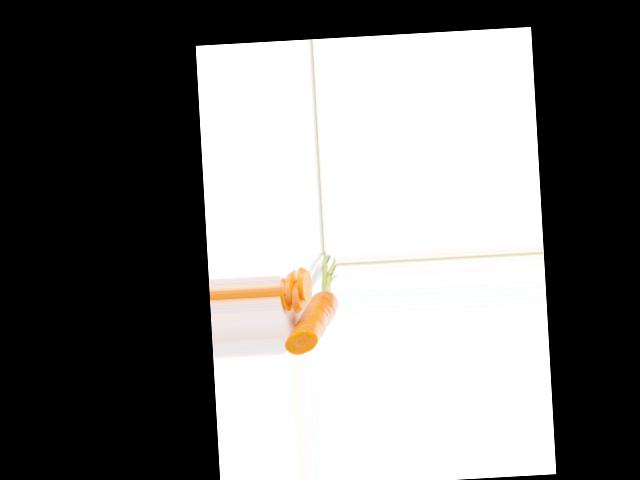carrot: (285, 289, 340, 351)
